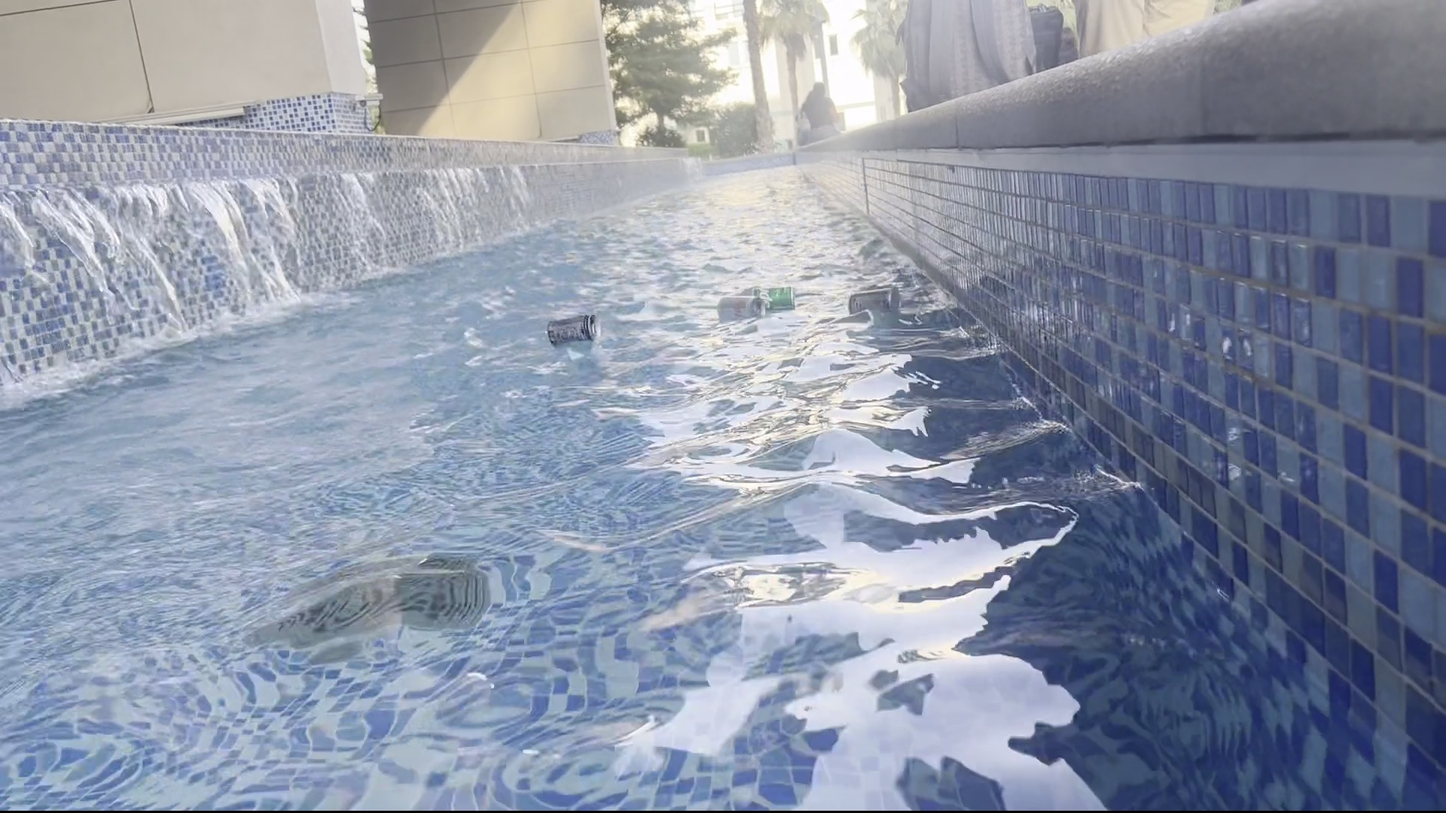debris: (545, 309, 602, 348), (739, 282, 803, 315), (842, 284, 899, 318), (714, 292, 767, 323)
